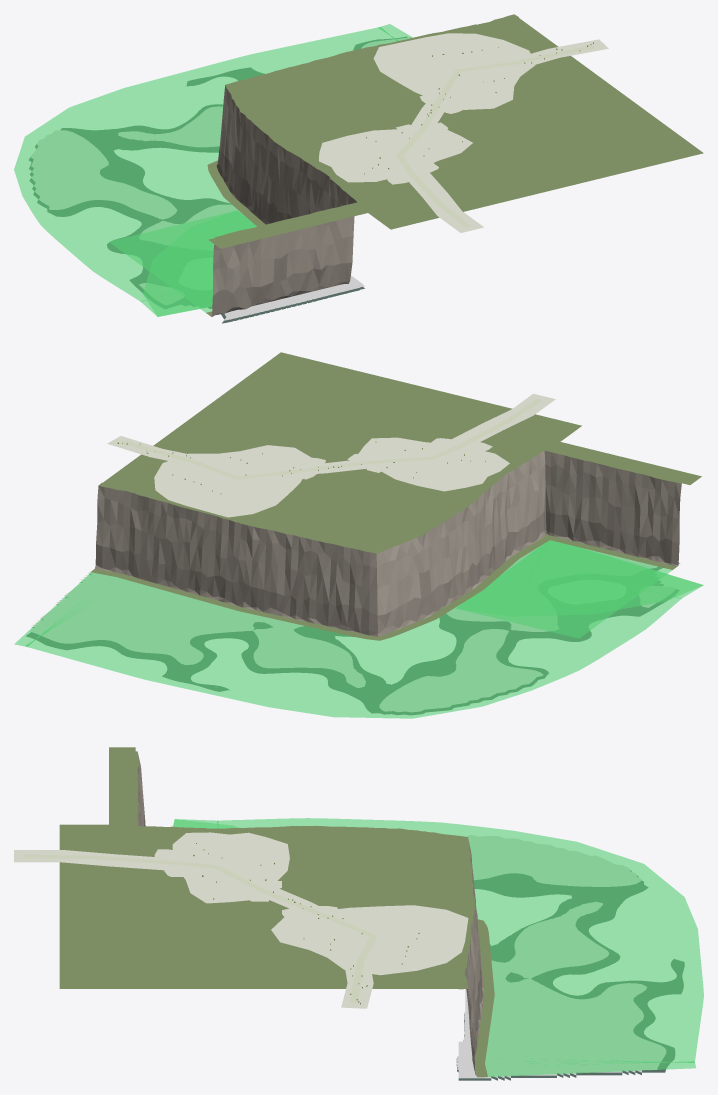
Rendered from pinar.glb.
3 renders of one model, top to bottom at view 1: azimuth 30°, elevation 25°; view 2: azimuth 150°, elevation 25°; view 3: azimuth 270°, elevation 25°, orthographic. The views are drawn at different scales.
Visible parts, largest first — view 1: AutoForest_PinarBajo, AutoForest_Pinar, PinarAcantiladoCanyon, AutoWater_PinarLago, PinarCimaMeadow, PinarLagoFondo, PinarClaroMeadow, PinarCaminoPath, PinarSubidaMeadow, PinarLomasMeadow, PinarEnlaceMeadow, PinarPasoMeadow; view 2: AutoForest_PinarBajo, PinarAcantiladoCanyon, AutoForest_Pinar, AutoWater_PinarLago, PinarLagoFondo, PinarCimaMeadow, PinarClaroMeadow, PinarCaminoPath, PinarSubidaMeadow, PinarLomasMeadow; view 3: AutoForest_PinarBajo, AutoForest_Pinar, AutoWater_PinarLago, PinarCimaMeadow, PinarLagoFondo, PinarAcantiladoCanyon, PinarClaroMeadow, PinarCaminoPath, PinarSubidaMeadow, PinarLomasMeadow, PinarPasoMeadow, PinarEnlaceMeadow.
Part boxes in pixels (x1,y1,x2,y2): AutoForest_PinarBajo: [14, 24, 412, 316]; AutoForest_Pinar: [208, 17, 703, 248]; PinarAcantiladoCanyon: [206, 14, 518, 316]; AutoWater_PinarLago: [31, 37, 411, 320]; PinarCimaMeadow: [373, 33, 535, 109]; PinarLagoFondo: [29, 37, 407, 323]; PinarClaroMeadow: [319, 129, 472, 182]; PinarCaminoPath: [396, 45, 594, 227]; PinarSubidaMeadow: [403, 171, 483, 232]; PinarLomasMeadow: [519, 39, 608, 64]; PinarEnlaceMeadow: [387, 95, 463, 184]; PinarPasoMeadow: [409, 95, 449, 131]; AutoForest_PinarBajo: [14, 540, 703, 718]; PinarAcantiladoCanyon: [91, 447, 685, 640]; AutoForest_Pinar: [103, 352, 701, 550]; AutoWater_PinarLago: [30, 547, 675, 711]; PinarLagoFondo: [26, 563, 679, 714]; PinarCimaMeadow: [154, 445, 311, 517]; PinarClaroMeadow: [358, 437, 509, 491]; PinarCaminoPath: [122, 399, 542, 479]; PinarSubidaMeadow: [449, 393, 555, 447]; PinarLomasMeadow: [107, 436, 197, 464]; AutoForest_PinarBajo: [173, 818, 703, 1076]; AutoForest_Pinar: [59, 747, 474, 988]; AutoWater_PinarLago: [457, 835, 666, 1078]; PinarCimaMeadow: [271, 905, 468, 975]; PinarLagoFondo: [456, 870, 684, 1080]; PinarAcantiladoCanyon: [128, 751, 494, 1077]; PinarClaroMeadow: [172, 832, 289, 903]; PinarCaminoPath: [23, 854, 377, 1002]; PinarSubidaMeadow: [14, 850, 173, 870]; PinarLomasMeadow: [341, 965, 373, 1008]; PinarPasoMeadow: [253, 885, 330, 925]; PinarEnlaceMeadow: [154, 849, 337, 917].
Size of what is drawn, in the model's own units: 202 by 31.42 by 211.
